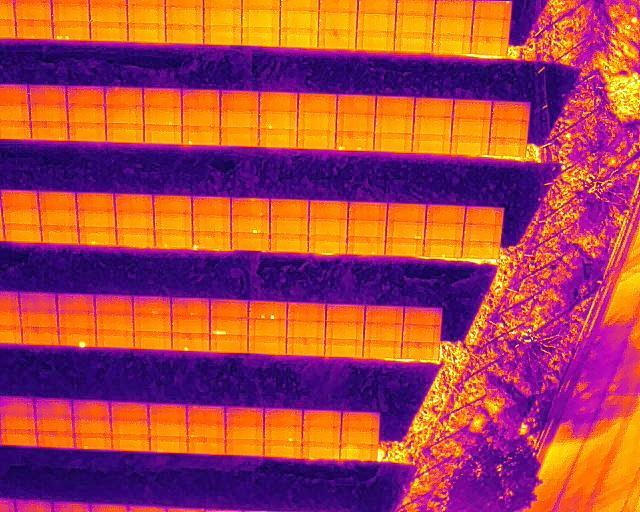Cell: (474, 0, 511, 19), (231, 216, 270, 234), (143, 107, 181, 125), (183, 128, 221, 146), (422, 240, 461, 257), (172, 334, 210, 351), (259, 112, 297, 129), (60, 330, 96, 347), (192, 233, 230, 249), (264, 426, 302, 441)
Cell-Multi: (335, 132, 374, 151), (248, 302, 287, 320), (53, 21, 90, 39), (387, 223, 425, 239)
No-Anomaly: (90, 0, 127, 22), (357, 31, 395, 51), (182, 90, 220, 110), (144, 125, 182, 145), (434, 17, 473, 36), (298, 93, 337, 112), (14, 0, 53, 19), (298, 112, 337, 131), (127, 4, 166, 23), (149, 403, 188, 422), (90, 22, 127, 42), (492, 102, 529, 122), (172, 298, 210, 317), (309, 218, 347, 237), (221, 91, 259, 110), (242, 27, 280, 46), (318, 29, 356, 48), (337, 95, 375, 114), (226, 406, 264, 425), (259, 129, 297, 148), (204, 7, 242, 26), (59, 294, 95, 314), (413, 99, 453, 117), (491, 120, 527, 140), (20, 292, 57, 311), (166, 24, 203, 43), (376, 97, 413, 116), (29, 86, 66, 105), (36, 398, 73, 417), (52, 0, 89, 19), (280, 10, 317, 29), (73, 400, 110, 419), (117, 228, 156, 246), (132, 297, 171, 315), (388, 205, 427, 223), (309, 200, 348, 218), (453, 101, 492, 119), (259, 93, 298, 111), (374, 134, 413, 152), (30, 121, 69, 139), (67, 105, 106, 123), (133, 315, 171, 333), (364, 323, 402, 341), (287, 321, 325, 339), (249, 320, 287, 338), (210, 300, 248, 318), (95, 295, 133, 313), (231, 233, 269, 251), (166, 5, 204, 23), (66, 87, 104, 105), (348, 202, 386, 220), (0, 397, 36, 416), (221, 111, 259, 129), (413, 118, 451, 136), (395, 33, 433, 51), (271, 200, 309, 218), (105, 88, 143, 106), (143, 88, 181, 106), (433, 36, 471, 54), (242, 10, 280, 28), (230, 199, 270, 216), (155, 230, 192, 248), (15, 20, 52, 38), (326, 321, 363, 339), (211, 335, 248, 353), (280, 30, 317, 48), (453, 119, 490, 137), (106, 106, 143, 124), (375, 116, 412, 134), (188, 406, 225, 424), (111, 402, 148, 420), (298, 131, 335, 149), (106, 124, 143, 142), (1, 190, 38, 208), (465, 207, 502, 225), (287, 338, 326, 355), (3, 225, 42, 242), (127, 24, 166, 41), (203, 27, 242, 44), (425, 224, 464, 241), (348, 220, 387, 237), (270, 218, 309, 235), (413, 136, 452, 153), (473, 19, 509, 37), (489, 139, 525, 157), (472, 37, 508, 55), (96, 314, 134, 331), (395, 16, 433, 33), (385, 239, 423, 256), (289, 303, 327, 320), (22, 328, 60, 345), (134, 332, 172, 349), (325, 340, 363, 357), (171, 317, 209, 334), (39, 192, 77, 209), (77, 193, 115, 210), (221, 129, 259, 146), (264, 441, 302, 458), (427, 206, 465, 223), (155, 213, 193, 230), (69, 124, 107, 141), (337, 114, 375, 131), (366, 305, 403, 322), (80, 227, 117, 244), (96, 330, 133, 347), (357, 13, 394, 30), (193, 198, 230, 215), (150, 437, 187, 454), (248, 338, 287, 354), (327, 305, 366, 321), (1, 209, 40, 225), (435, 0, 474, 16), (318, 13, 357, 29), (264, 409, 303, 425), (462, 240, 498, 257), (402, 342, 438, 359), (308, 238, 346, 254), (463, 224, 501, 240), (363, 342, 401, 358), (116, 195, 154, 211), (303, 443, 341, 459), (78, 211, 116, 227), (40, 209, 78, 225), (37, 432, 75, 448), (182, 111, 220, 127), (116, 211, 154, 227), (154, 197, 192, 213), (42, 226, 79, 242), (402, 325, 439, 341), (347, 237, 384, 253), (270, 235, 307, 251), (0, 430, 37, 446), (30, 105, 67, 121), (188, 438, 225, 454), (304, 411, 341, 427), (451, 138, 488, 154), (341, 413, 378, 429), (193, 215, 230, 231), (404, 308, 440, 324), (342, 430, 378, 446), (21, 313, 59, 328), (226, 425, 264, 440), (0, 121, 30, 140), (303, 427, 341, 442), (225, 440, 263, 455), (76, 434, 111, 450), (58, 315, 95, 330), (111, 420, 148, 435), (112, 436, 149, 451), (341, 445, 377, 460), (148, 423, 186, 437), (187, 424, 225, 438), (73, 419, 111, 433), (0, 416, 37, 430), (0, 87, 29, 104), (37, 417, 72, 431), (0, 104, 30, 120), (0, 292, 20, 310), (0, 311, 22, 327), (0, 328, 22, 344)
Unclassified: (210, 318, 248, 335)
